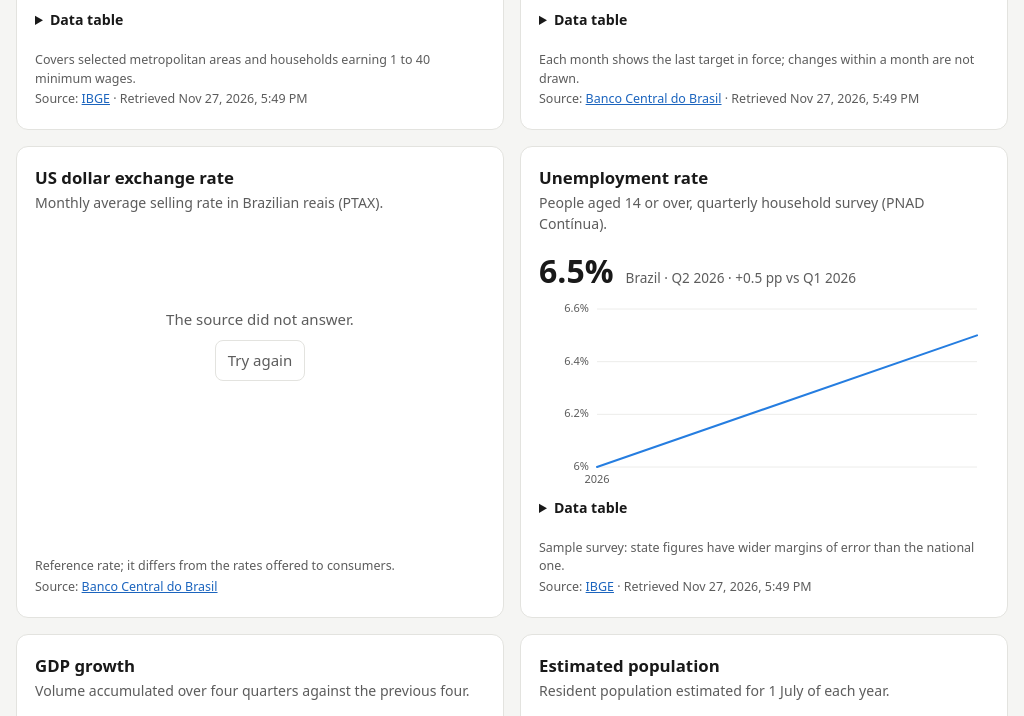
Test: App › isolates a failing source and recovers on retry
(page scrolled)
Expected: the message shows "The source did not answer.", left=166, top=309, right=354, bottom=329
Click the button "Try again" at (260, 361), box left=215, top=340, right=305, bottom=381
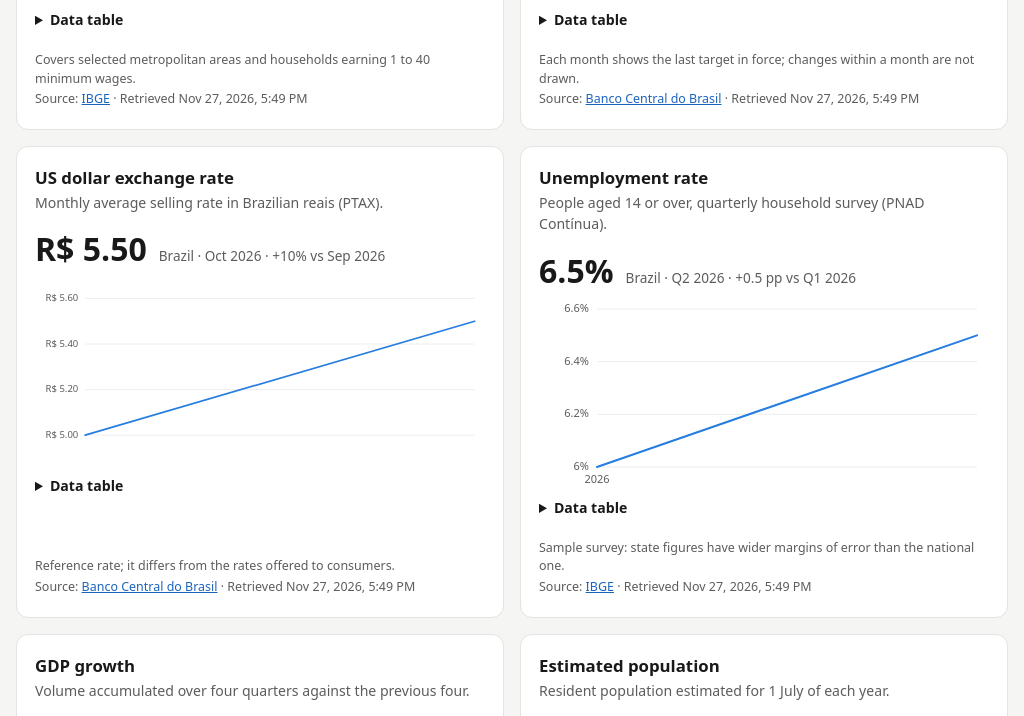
Now the element "US dollar exchange rate" shows "R$ 5.50", box left=35, top=227, right=147, bottom=270
